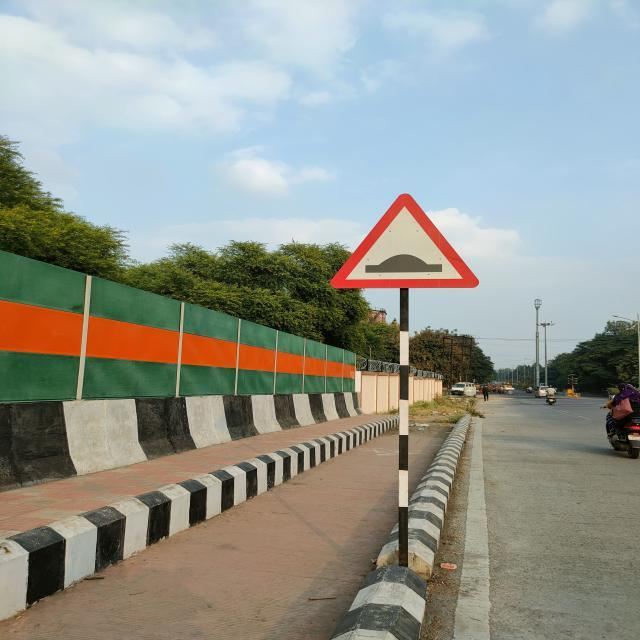hump or rough road: (326, 189, 485, 293)
